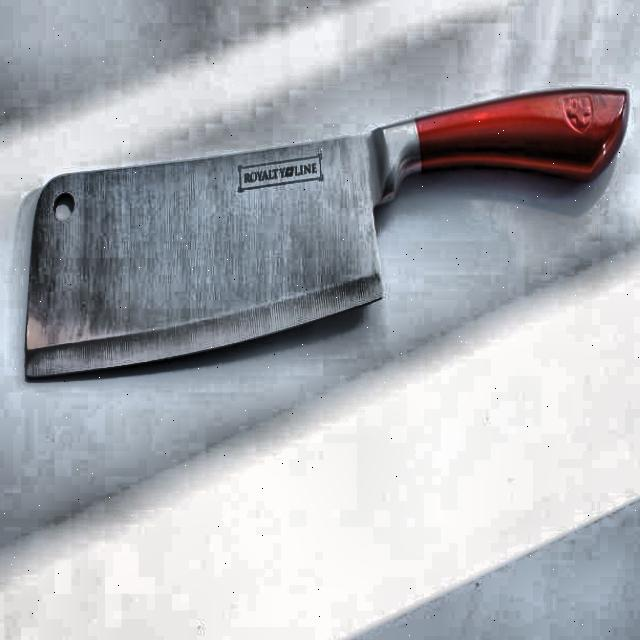knife: (25, 82, 636, 384)
